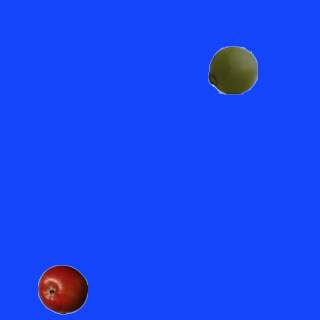Apple Braeburn: (37, 264, 87, 314)
Grape White 4: (207, 44, 257, 94)
